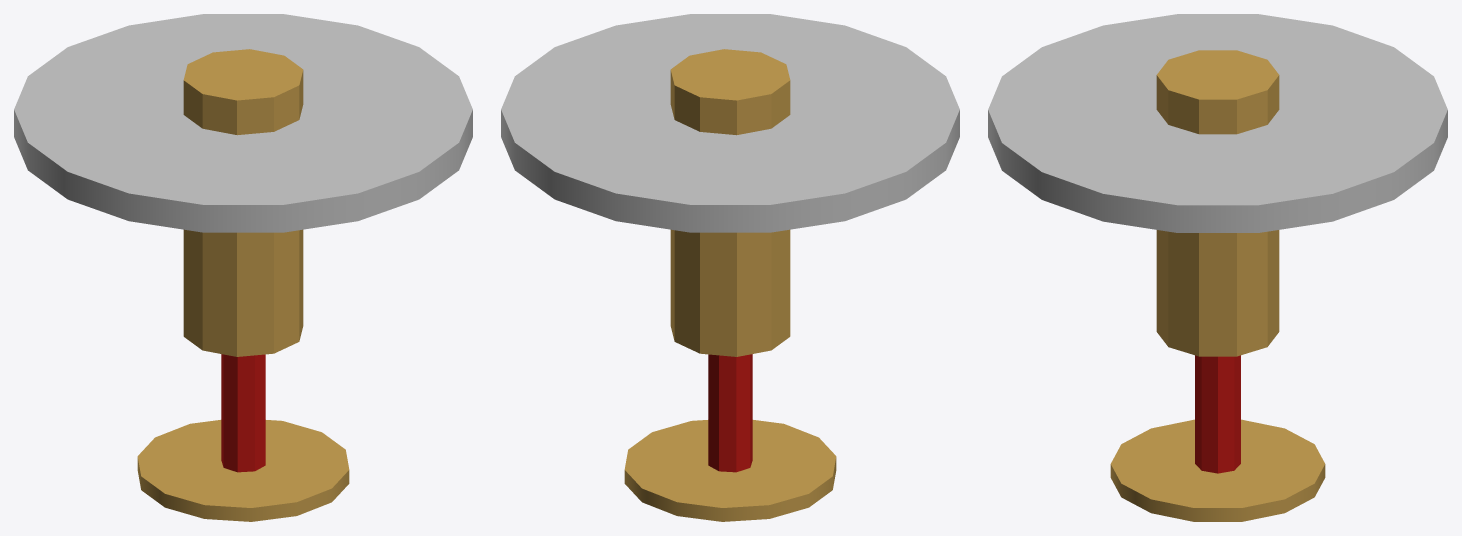
The model's file is services.device.sprinkler.glb.
The picture shows the model from 3 angles, left to right: view 1: azimuth 30°, elevation 25°; view 2: azimuth 150°, elevation 25°; view 3: azimuth 270°, elevation 25°; orthographic projection.
Parts seen in each view (by area): view 1: main__steel_stainless, main__brass, main__plastic_red; view 2: main__steel_stainless, main__brass, main__plastic_red; view 3: main__steel_stainless, main__brass, main__plastic_red.
Boxes of the visible parts, left/top/right/bottom form: main__steel_stainless: left=14, top=14, right=472, bottom=232; main__brass: left=137, top=49, right=349, bottom=521; main__plastic_red: left=221, top=354, right=265, bottom=472; main__steel_stainless: left=501, top=14, right=959, bottom=232; main__brass: left=624, top=49, right=836, bottom=521; main__plastic_red: left=708, top=354, right=752, bottom=472; main__steel_stainless: left=988, top=14, right=1447, bottom=232; main__brass: left=1110, top=50, right=1325, bottom=521; main__plastic_red: left=1195, top=355, right=1240, bottom=473.
Size of the model in its own units: 0.0591 by 0.062 by 0.06.
